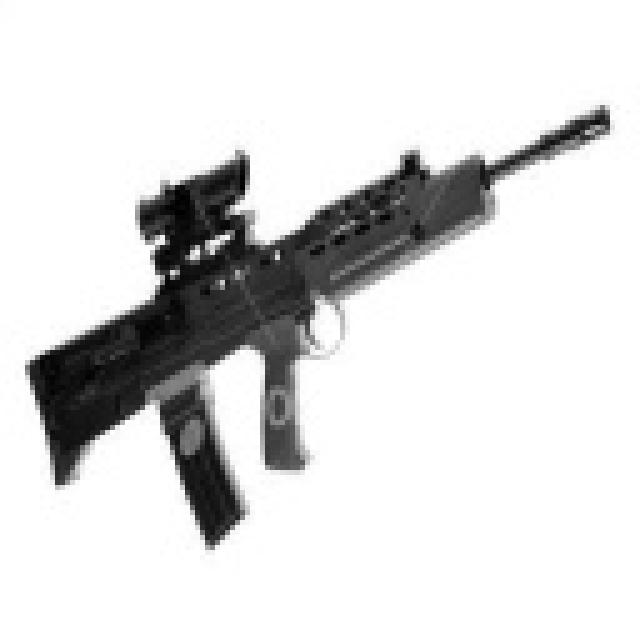Rifle: (2, 62, 640, 570)
